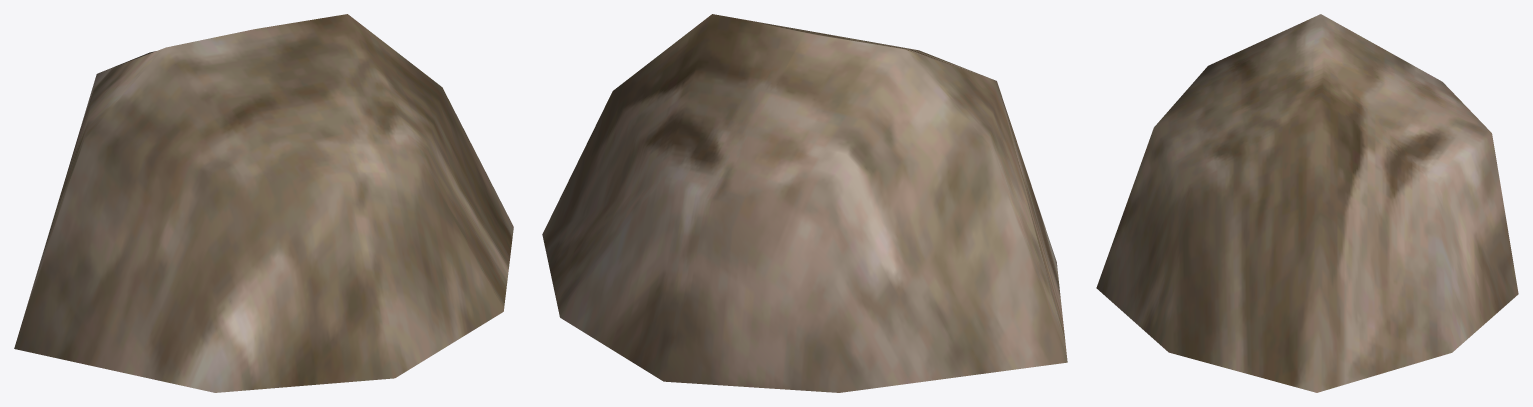
Rendered from OVERHILL_A_01_ROCK62.fbx.
The picture shows the model from 3 angles, left to right: view 1: azimuth 30°, elevation 25°; view 2: azimuth 150°, elevation 25°; view 3: azimuth 270°, elevation 25°; orthographic projection. The views are drawn at different scales.
Visible parts, largest first — view 1: OVERHILL_A_01_ROCK62; view 2: OVERHILL_A_01_ROCK62; view 3: OVERHILL_A_01_ROCK62.
Part boxes in pixels (left/top/right/bottom): OVERHILL_A_01_ROCK62: left=14, top=14, right=513, bottom=392; OVERHILL_A_01_ROCK62: left=542, top=14, right=1067, bottom=392; OVERHILL_A_01_ROCK62: left=1096, top=14, right=1518, bottom=392.
Bounding box in the file's own units: 4611 × 2312 × 3836.
1 material, 1 textured.
